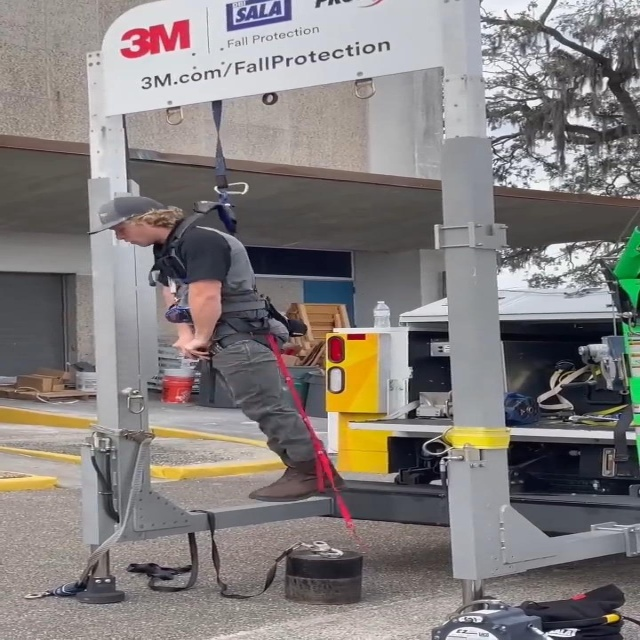Arnes_seguridad: (148, 180, 314, 364)
